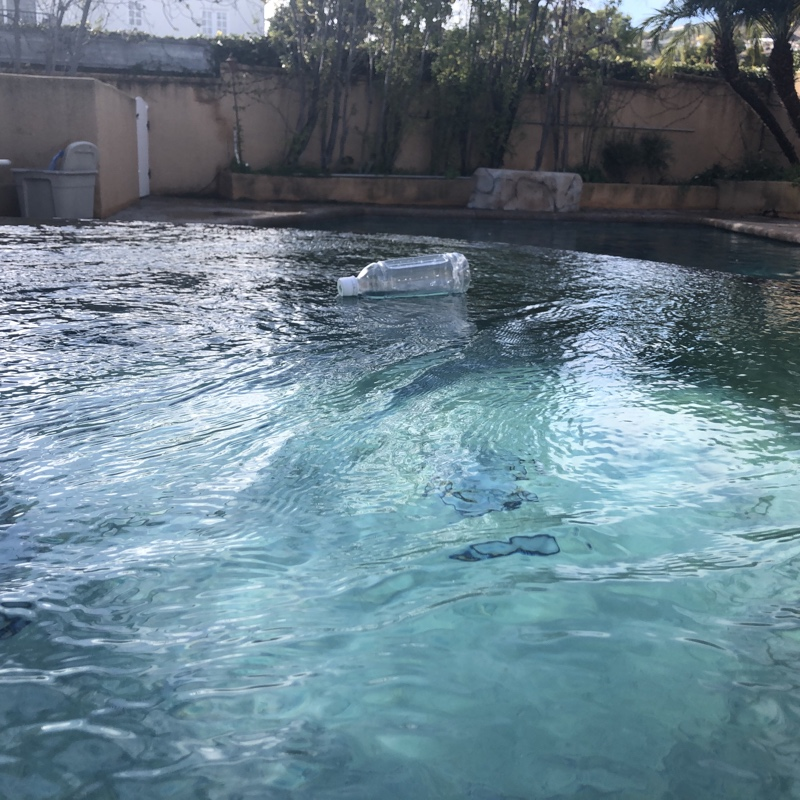Plastic Bottle: (334, 249, 474, 301)
